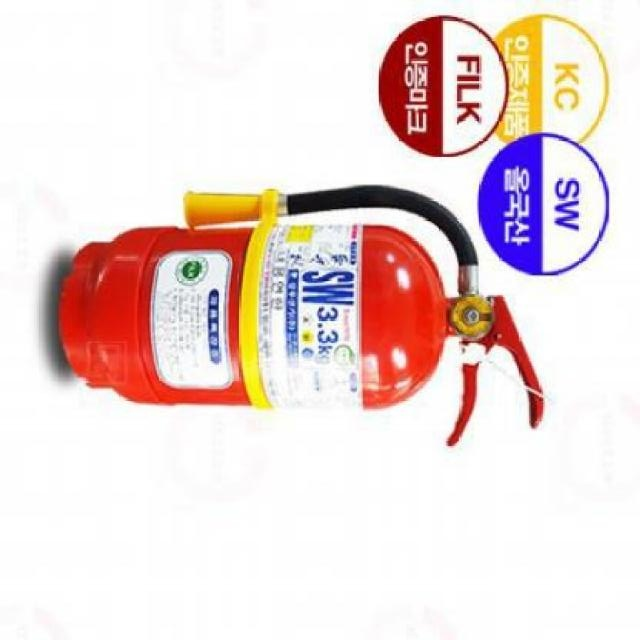fire extinguisher: (61, 184, 545, 448)
